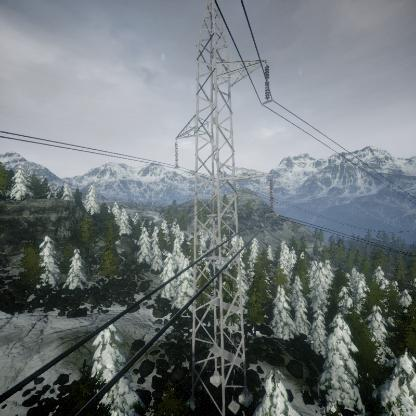tower: (171, 4, 277, 404)
